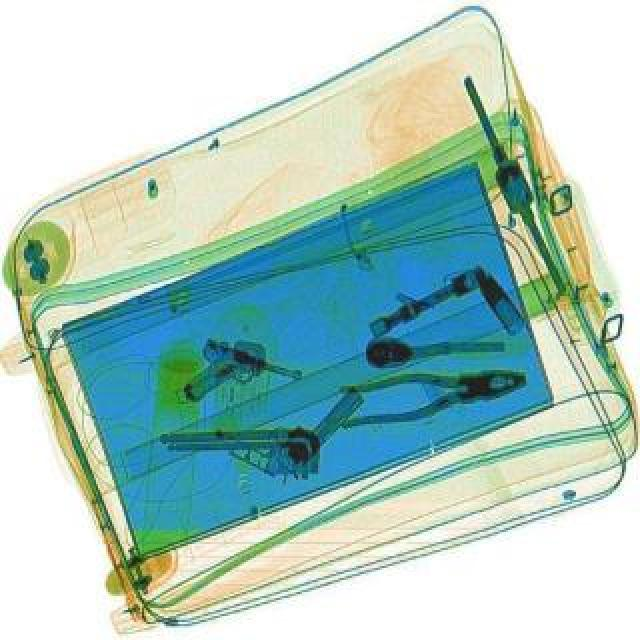gun: (224, 354, 368, 490), (178, 330, 308, 430)
wrench: (332, 352, 530, 432)
